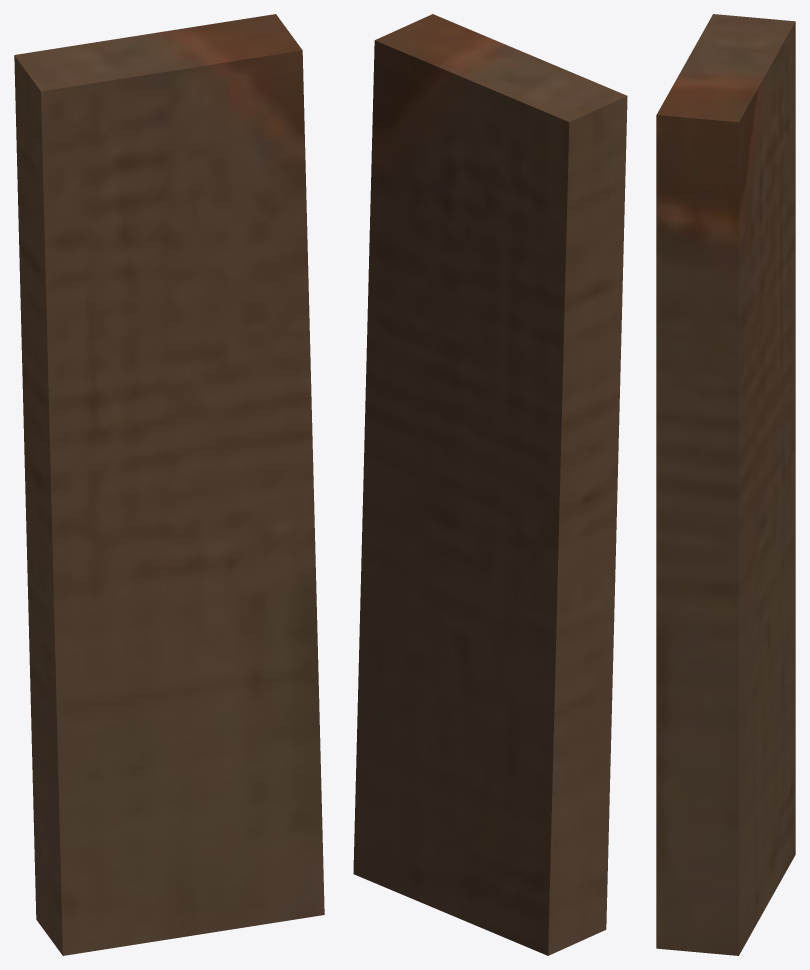
Rendered from fan_left__blade_6.glb.
The picture shows the model from 3 angles, left to right: view 1: azimuth 30°, elevation 25°; view 2: azimuth 150°, elevation 25°; view 3: azimuth 270°, elevation 25°; orthographic projection. The views are drawn at different scales.
Visible parts, largest first — view 1: geometry_0; view 2: geometry_0; view 3: geometry_0.
Part boxes in pixels (bbox=[...]): geometry_0: bbox=[14, 14, 324, 955]; geometry_0: bbox=[353, 14, 627, 955]; geometry_0: bbox=[656, 14, 795, 955].
Size of the model in its own units: 0.00911 by 0.0282 by 0.00428.
Materials: 1 (1 with a texture image).
